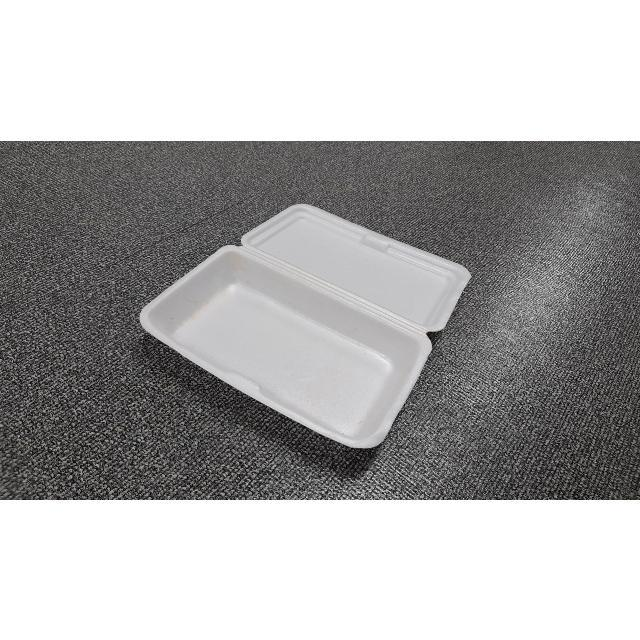Recipiente plastico: (140, 206, 469, 448)
